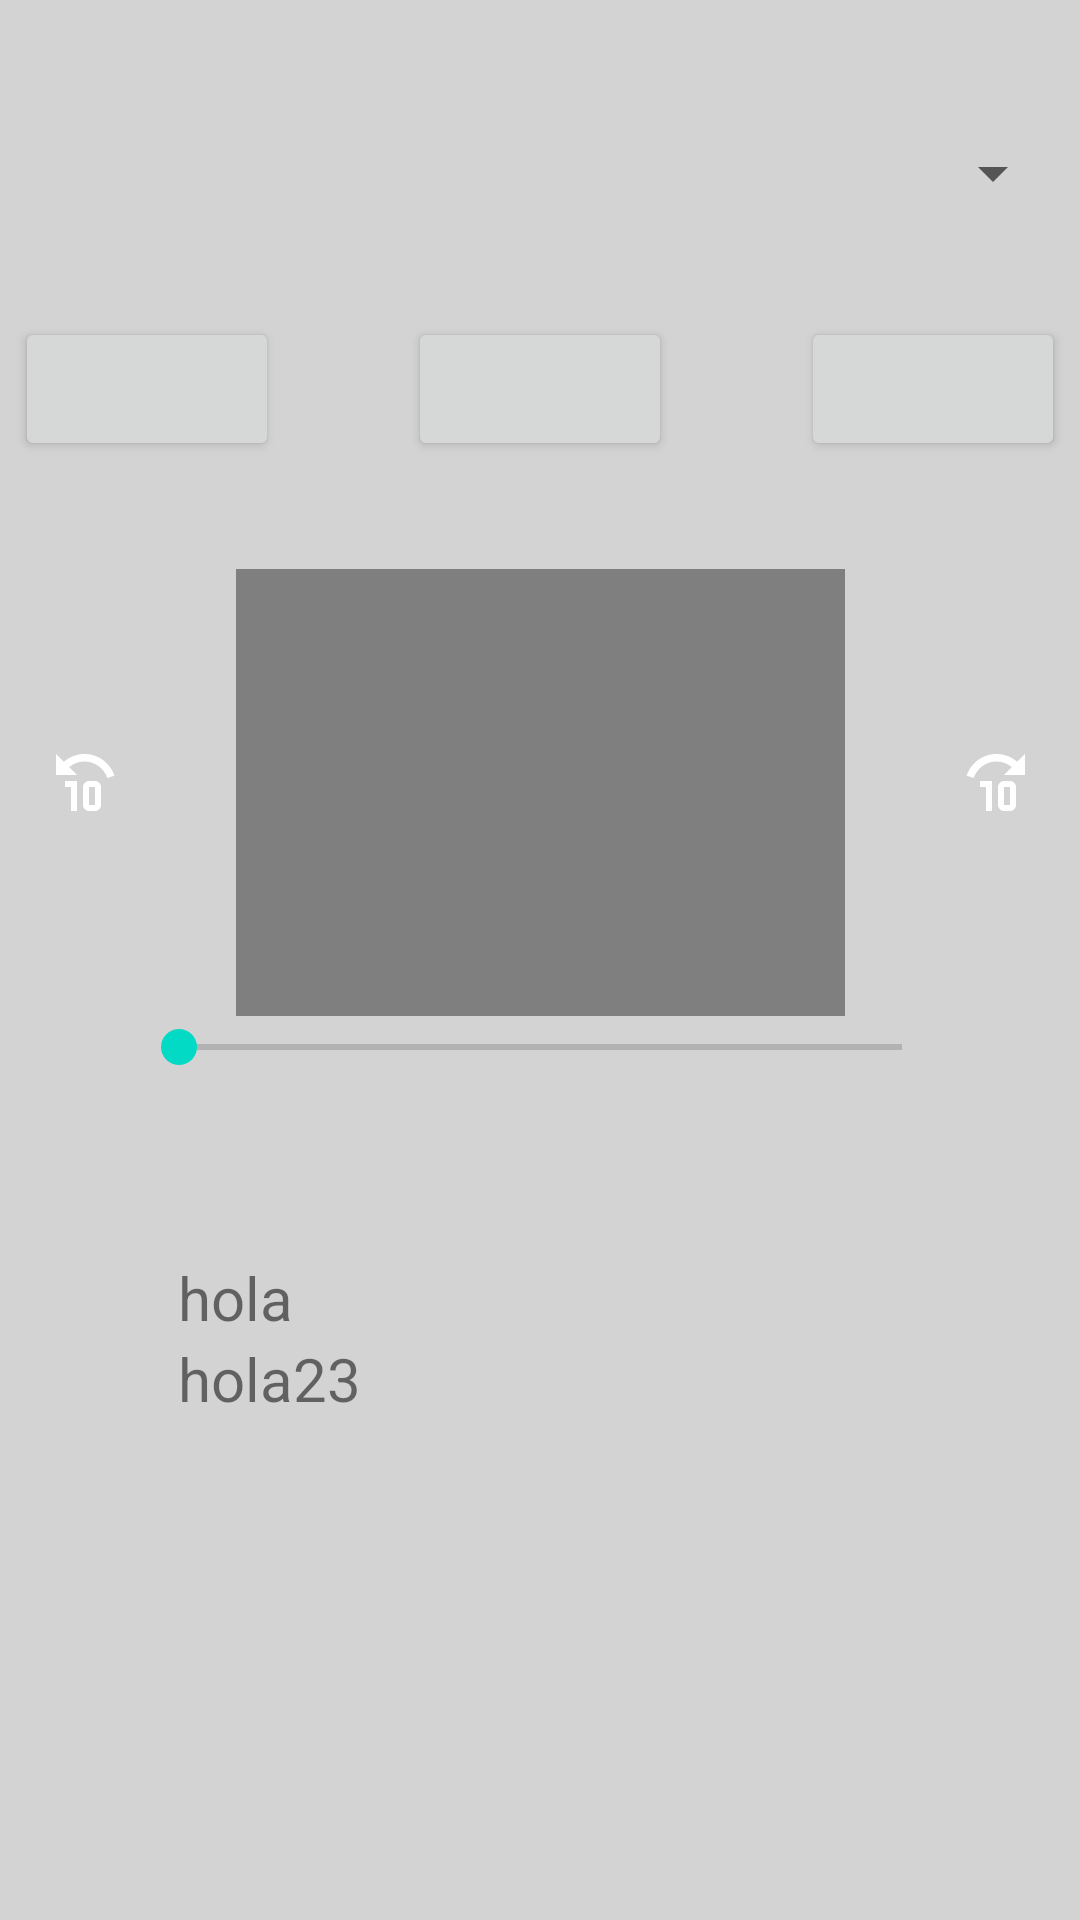

Icon click points for this 1080x1920 phone screenshot, format (x=x, y=y):
fast forward: (x=996, y=782)
rewind: (x=85, y=782)
